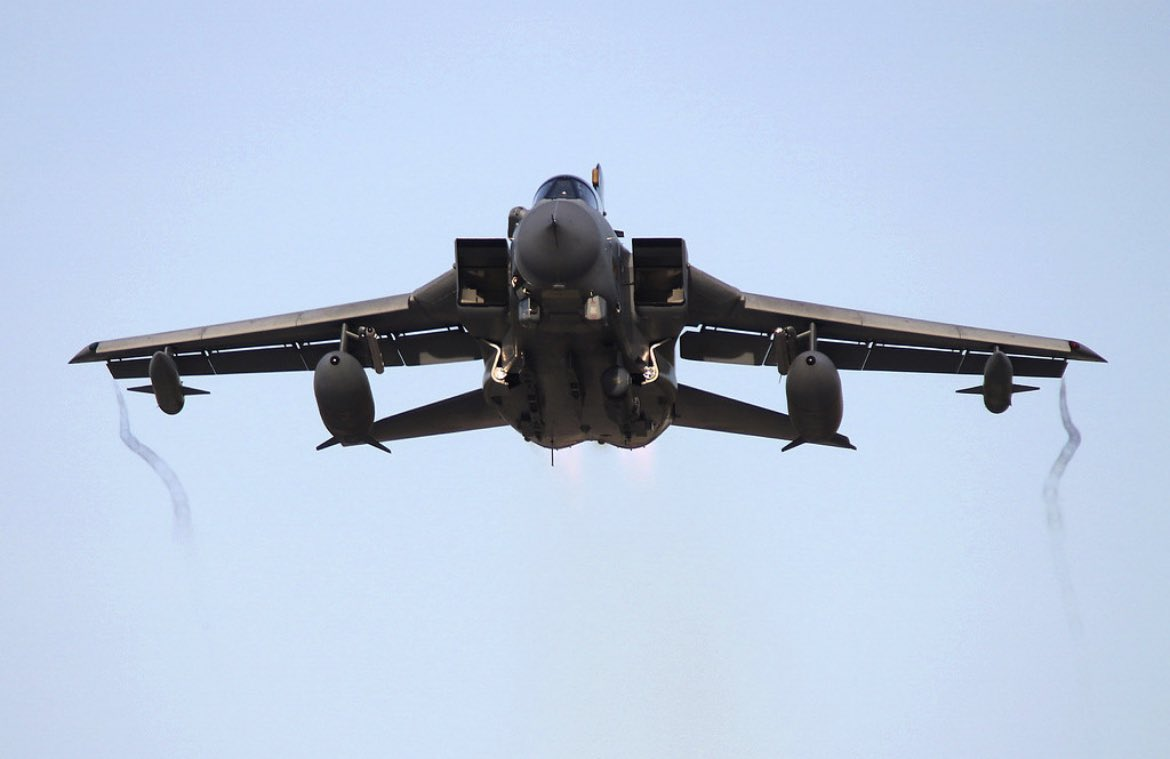Tornado: (67, 162, 1109, 467)
